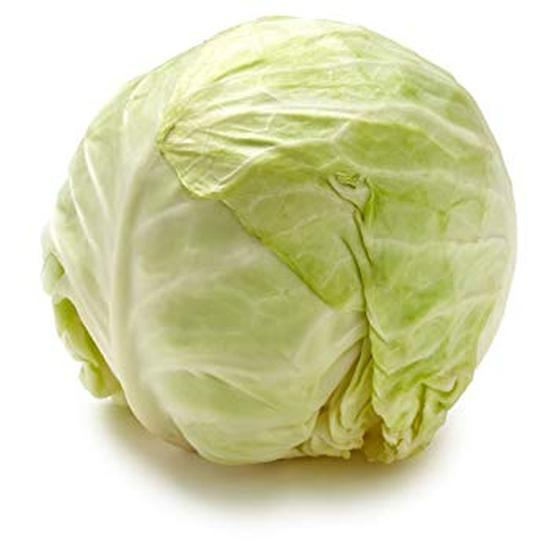cabbage: (42, 12, 520, 467)
